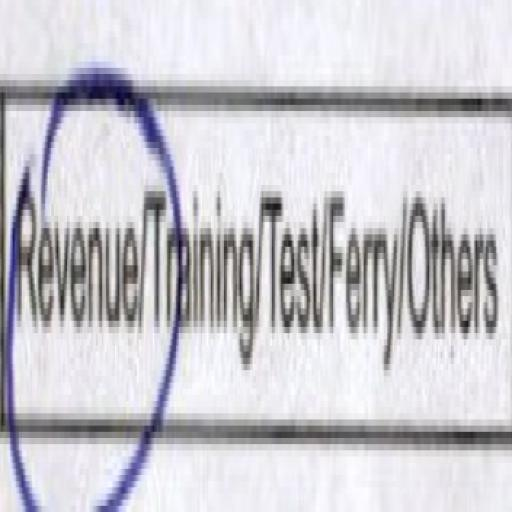check: (0, 6, 148, 512)
